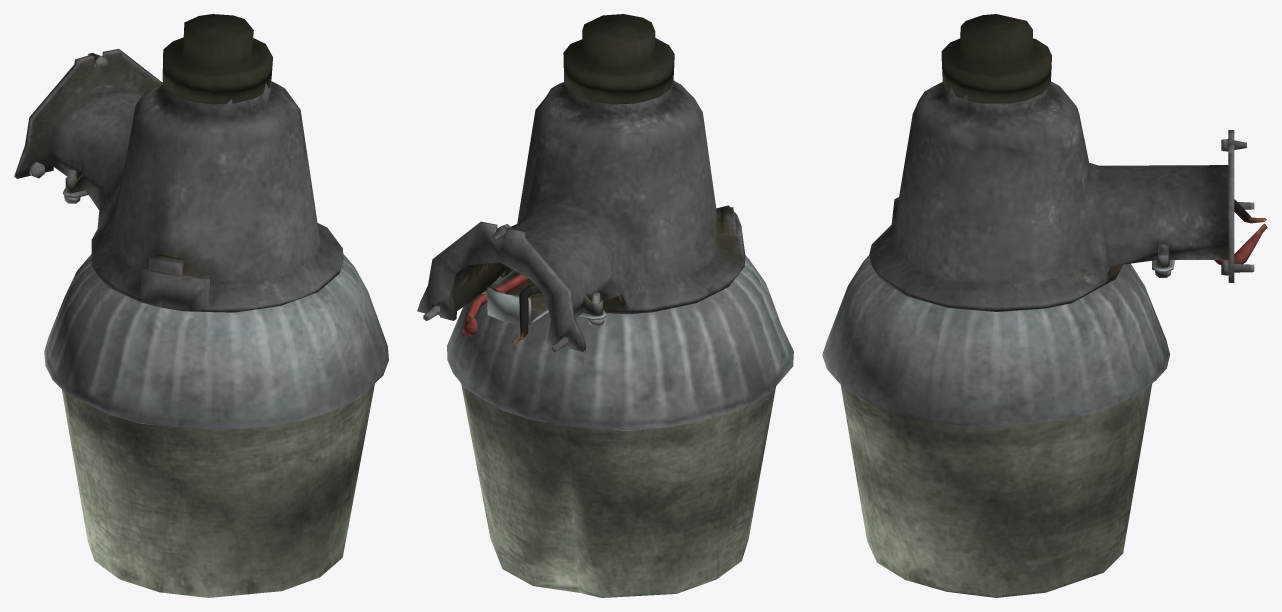
Rendered from security_light_1k.gltf.
3 views of the same model, side by side, from view 1: azimuth 30°, elevation 25°; view 2: azimuth 150°, elevation 25°; view 3: azimuth 270°, elevation 25° (orthographic).
Parts seen in each view (by area): view 1: security_light, security_light_glass; view 2: security_light, security_light_glass; view 3: security_light, security_light_glass.
Boxes of the visible parts, x1=… form: security_light: x1=14, y1=14, x2=388, y2=429; security_light_glass: x1=62, y1=384, x2=374, y2=597; security_light: x1=417, y1=14, x2=793, y2=430; security_light_glass: x1=461, y1=383, x2=775, y2=597; security_light: x1=822, y1=14, x2=1267, y2=425; security_light_glass: x1=840, y1=384, x2=1151, y2=597.
Size of the model in its own units: 0.3231 by 0.531 by 0.4172.
3 materials, 3 textured.
